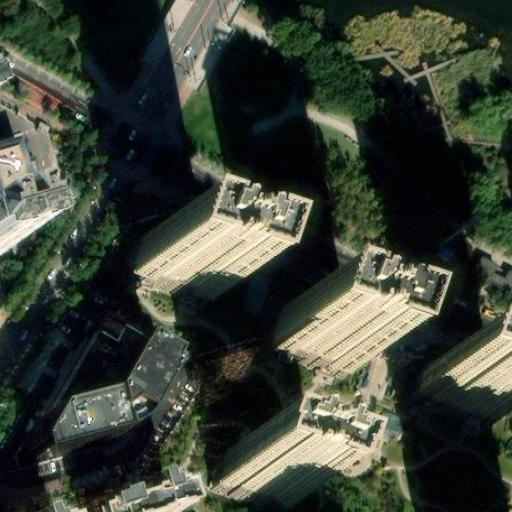building: (49, 331, 191, 445), (64, 314, 155, 400), (269, 305, 368, 374), (131, 233, 230, 297), (204, 447, 297, 505), (413, 362, 500, 416), (0, 133, 39, 196), (100, 491, 175, 512), (473, 257, 512, 292)
